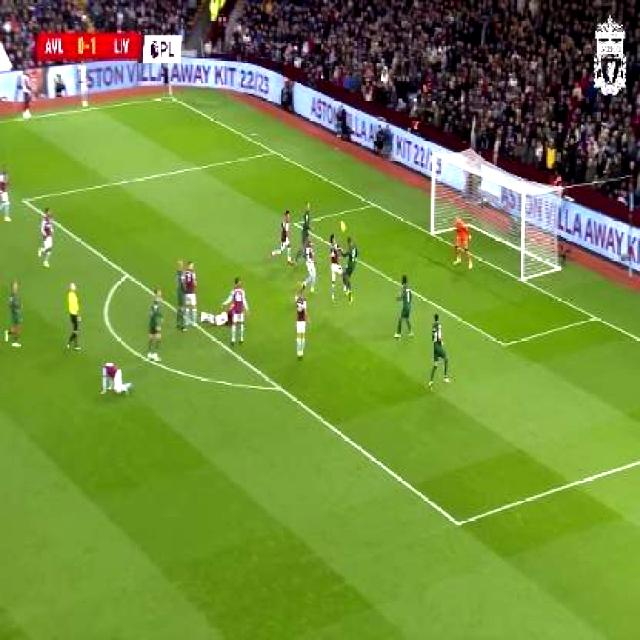bigarea_bottom_inner: (444, 503, 470, 540)
bigarea_top_inner: (15, 188, 31, 209)
bigarea_top_outter: (266, 142, 282, 160)
bottom_arc_area_intersection: (269, 374, 288, 400)
corner: (157, 89, 178, 105)
smallarea_bottom_inner: (492, 326, 516, 359)
smallarea_bottom_outter: (584, 303, 604, 328)
smallarea_top_inner: (288, 214, 302, 232)
smallarea_top_outter: (364, 192, 382, 214)
top_arc_area_intersection: (118, 263, 134, 285)
